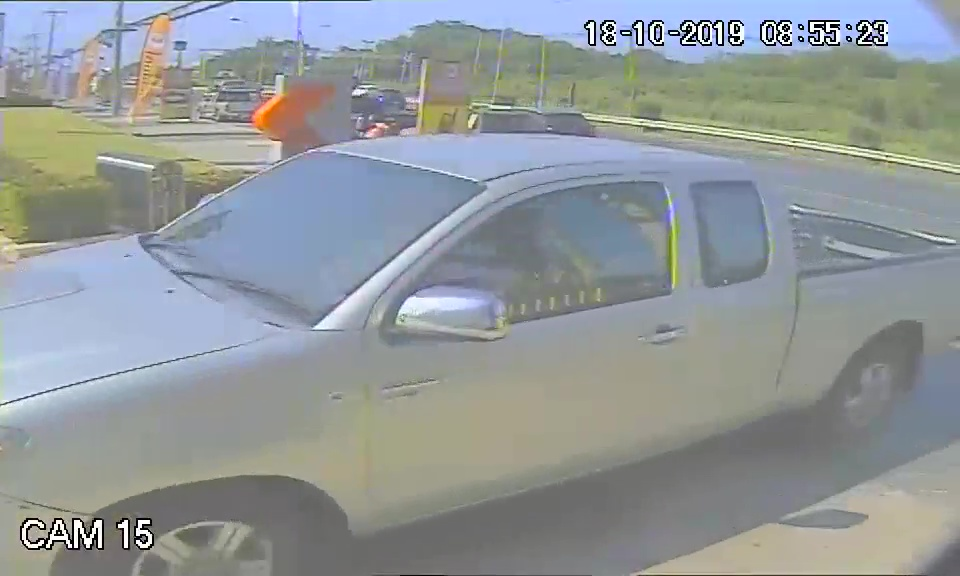pickup: (1, 132, 795, 538)
